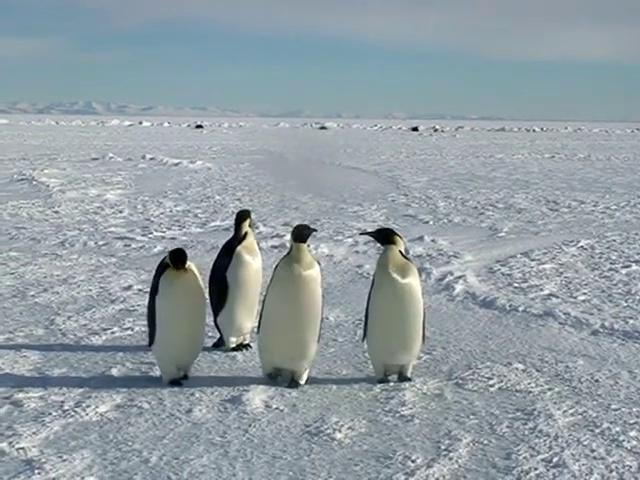animal: (360, 227, 424, 382)
